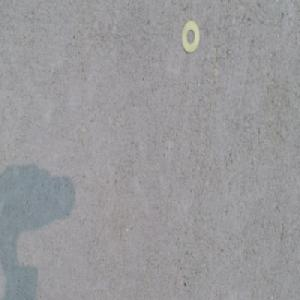Washer: (180, 21, 199, 52)
